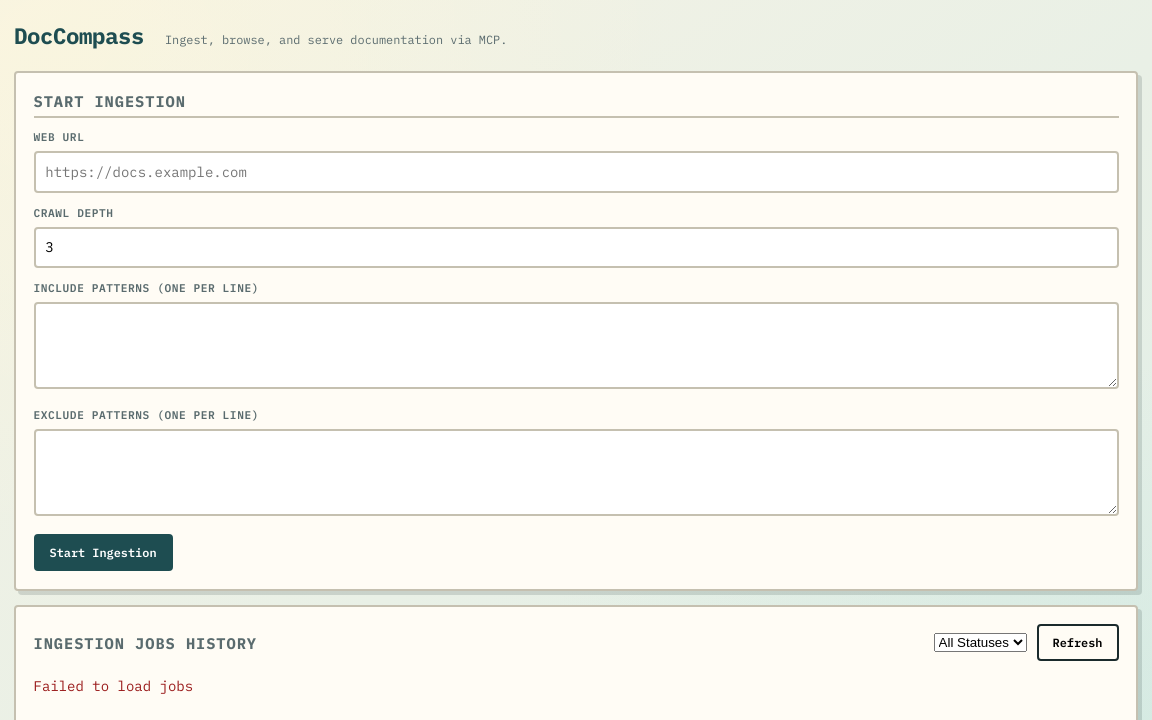
Dashboard › shows validation error if url is missing
Click the button "Start Ingestion": (103, 553) [34,534,172,571]
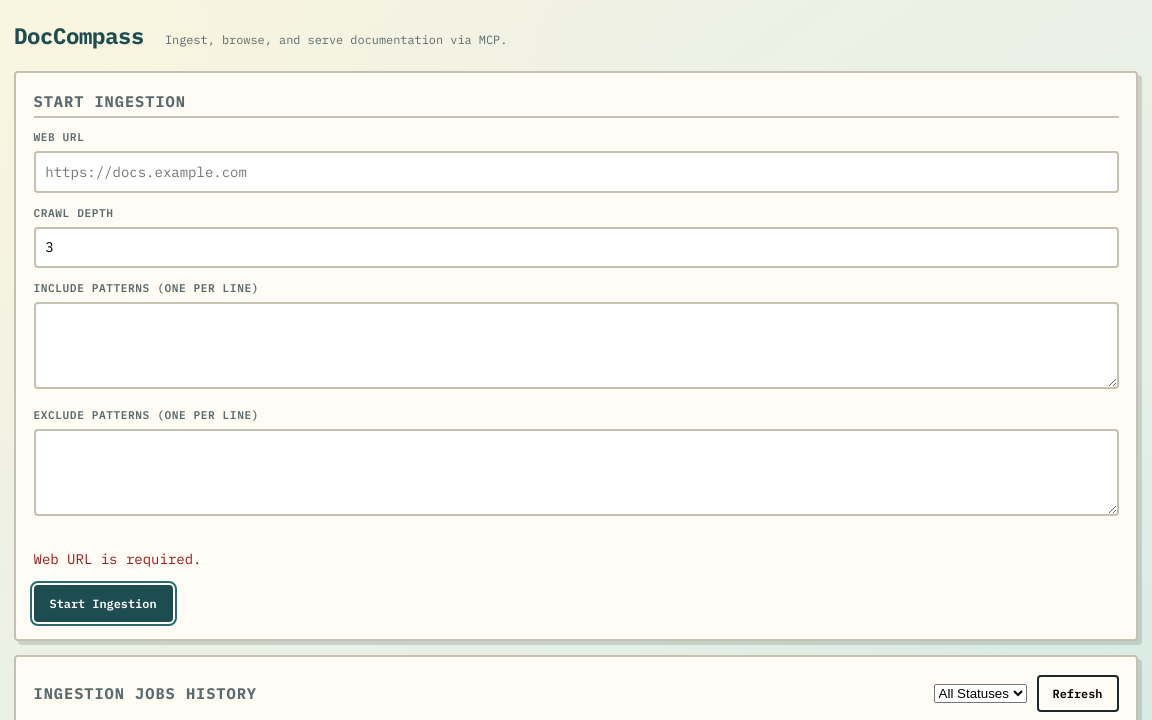
expect the message shows "Web URL is required": met, box [34,550,202,568]
